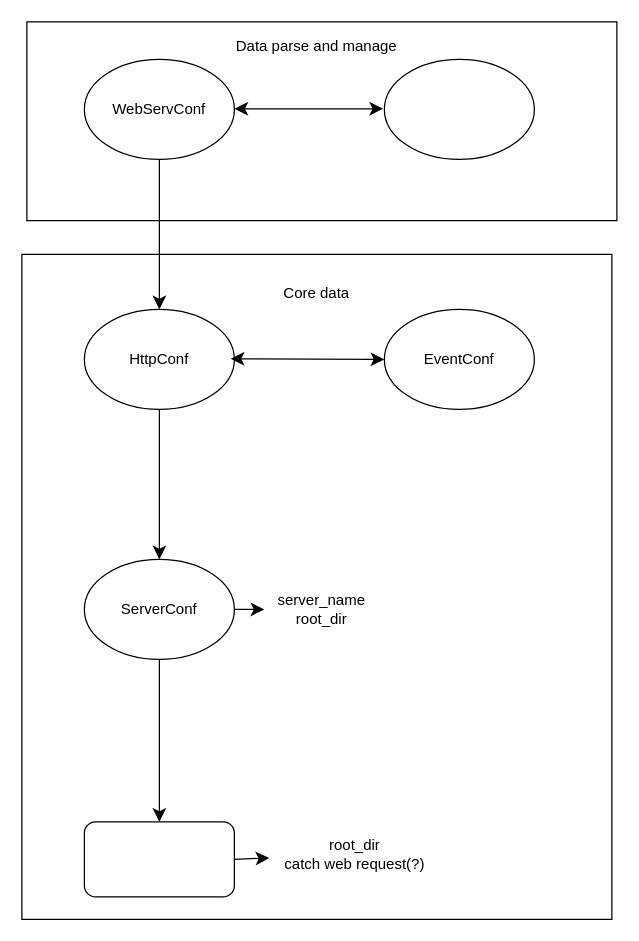
Image size: 639x941. Some labels were removed from this diagram. Each missing label, with the centre of its shape:
LocationConf: (x=158, y=859)
ParseConf: (x=458, y=108)
